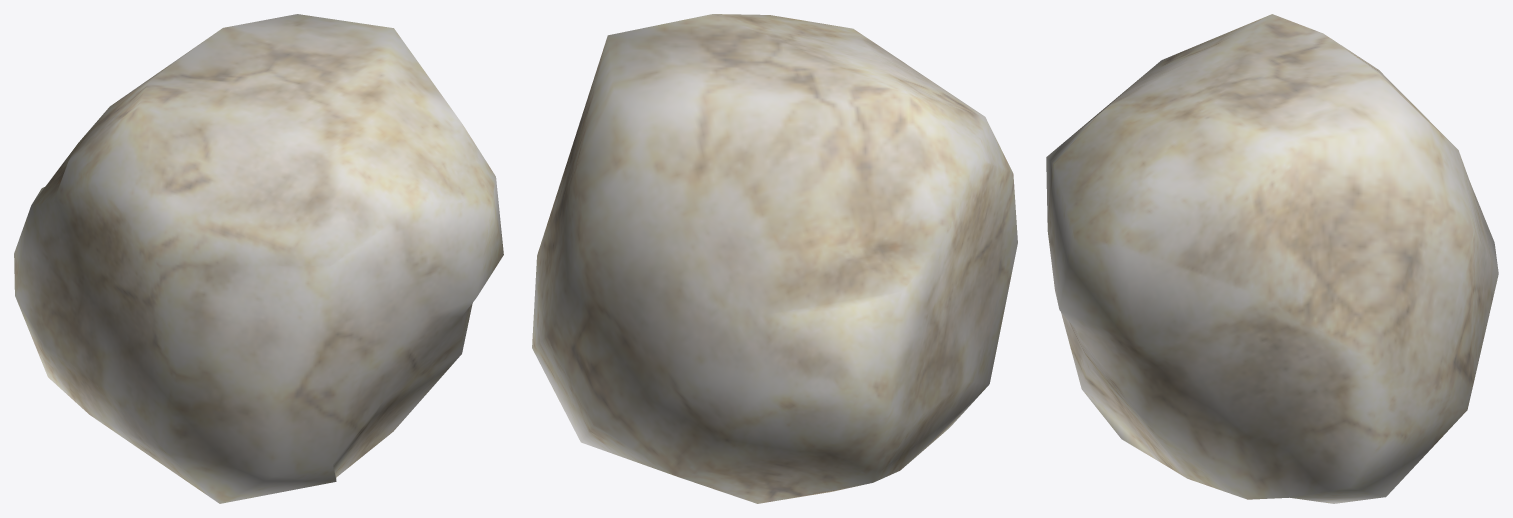
Rendered from SM_StoneRefined_1.fbx.
3 views of the same model, side by side, from view 1: azimuth 30°, elevation 25°; view 2: azimuth 150°, elevation 25°; view 3: azimuth 270°, elevation 25° (orthographic). The views are drawn at different scales.
Visible parts, largest first — view 1: SM_StoneRefined_1_LOD0; view 2: SM_StoneRefined_1_LOD0; view 3: SM_StoneRefined_1_LOD0.
Part boxes in pixels (left/top/right/bottom): SM_StoneRefined_1_LOD0: left=14, top=14, right=503, bottom=503; SM_StoneRefined_1_LOD0: left=532, top=14, right=1017, bottom=503; SM_StoneRefined_1_LOD0: left=1046, top=14, right=1498, bottom=503.
Size of what is drawn, in the model's own units: 0.2839 by 0.2738 by 0.2926.
